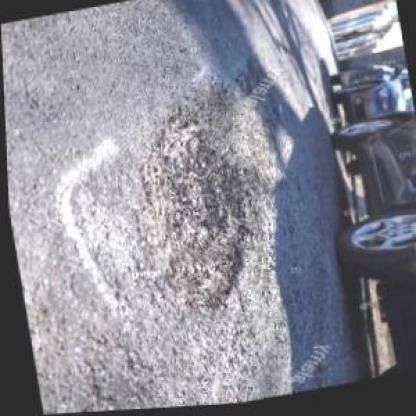pothole: (112, 80, 268, 328)
